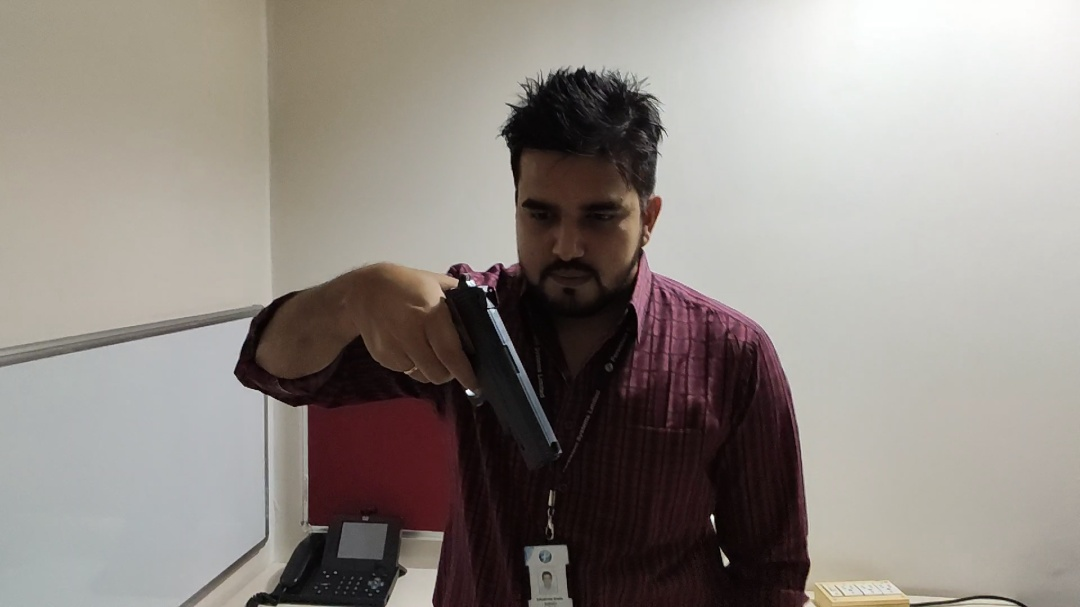gun: (401, 268, 571, 476)
